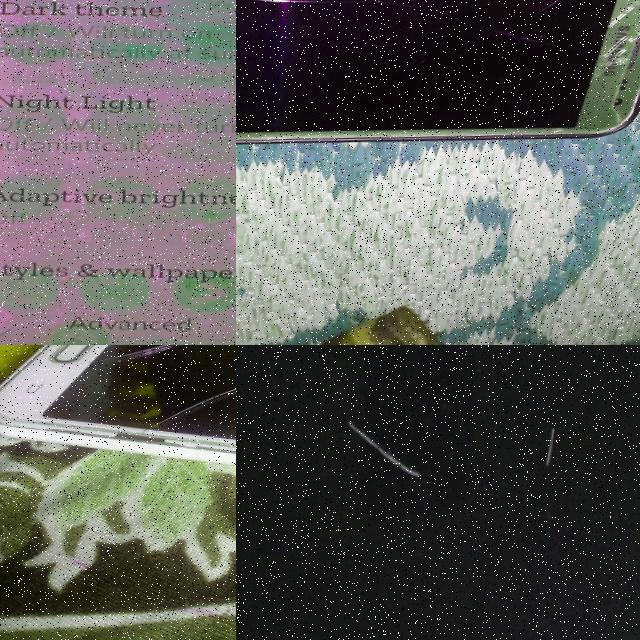scratch: (337, 402, 431, 487), (536, 416, 569, 473)
screen crack: (58, 345, 236, 459), (551, 0, 640, 135)
